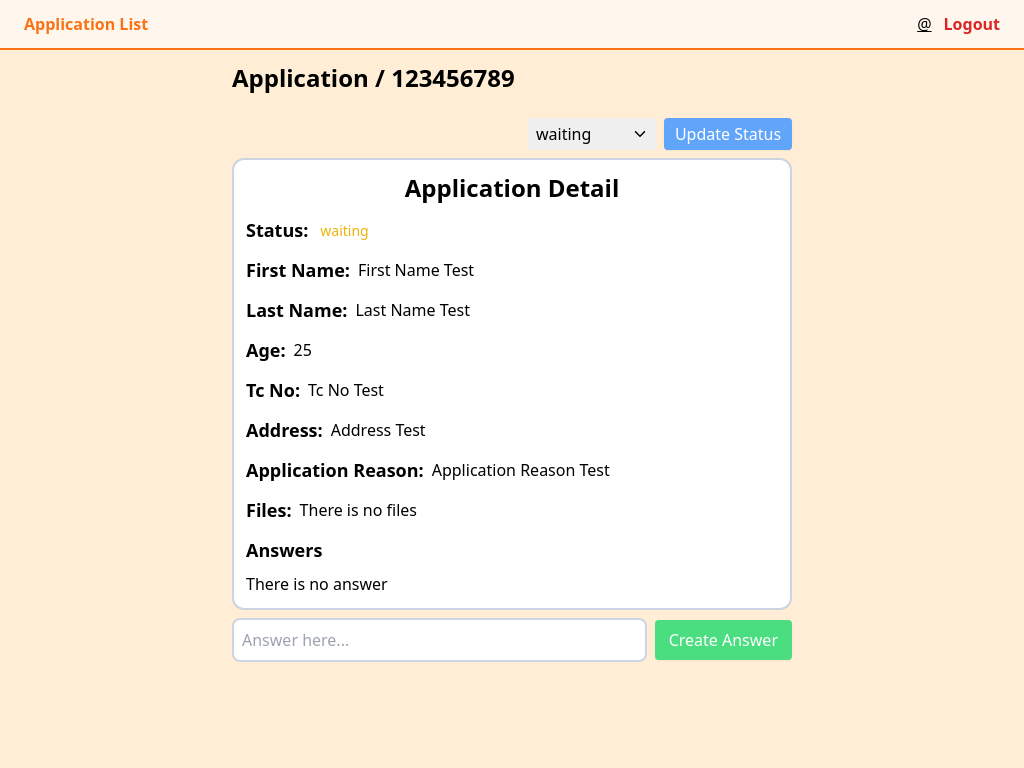
Test: AdminApplication Page Test › should change status with selectbox
Select "solved" in the dropdown at (592, 134), box [528,118,656,150]
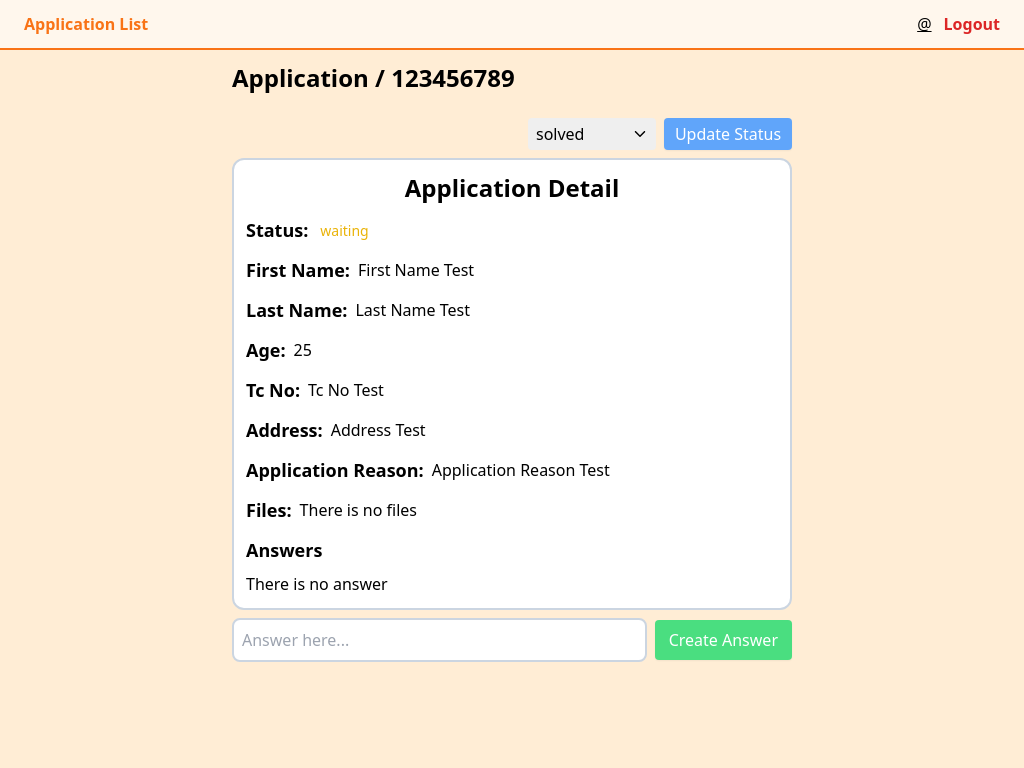
Click the button "Update Status" at (728, 134), box [664,118,792,150]
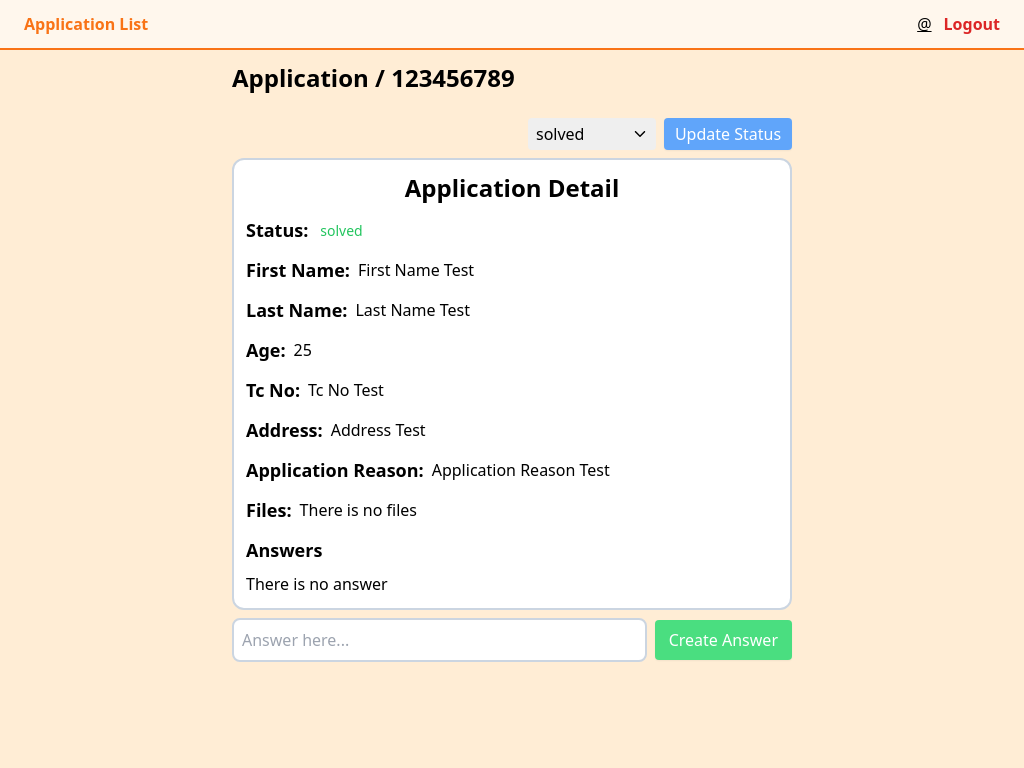
Expected: the text with test id "status-badge" reads "solved", [320,221,363,240]
